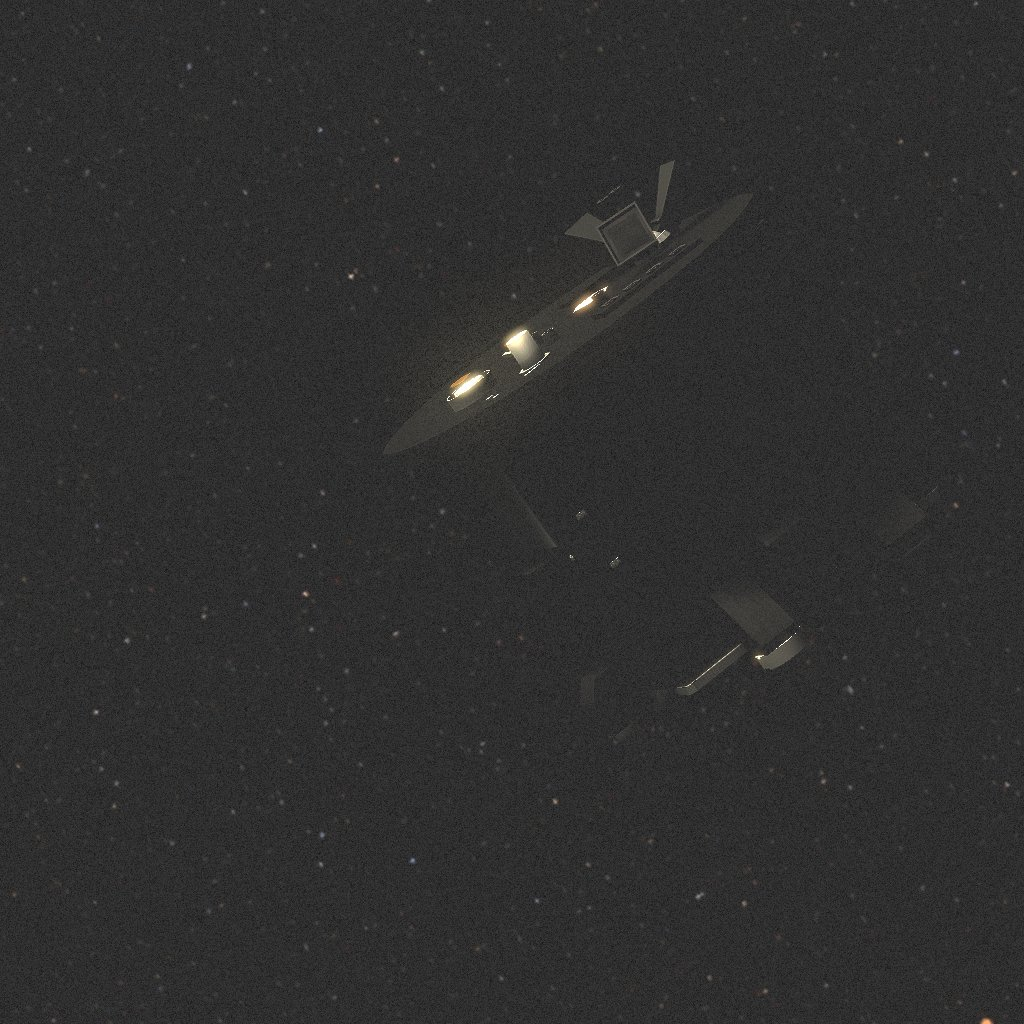proba_3_ocs: (410, 166, 969, 731)
